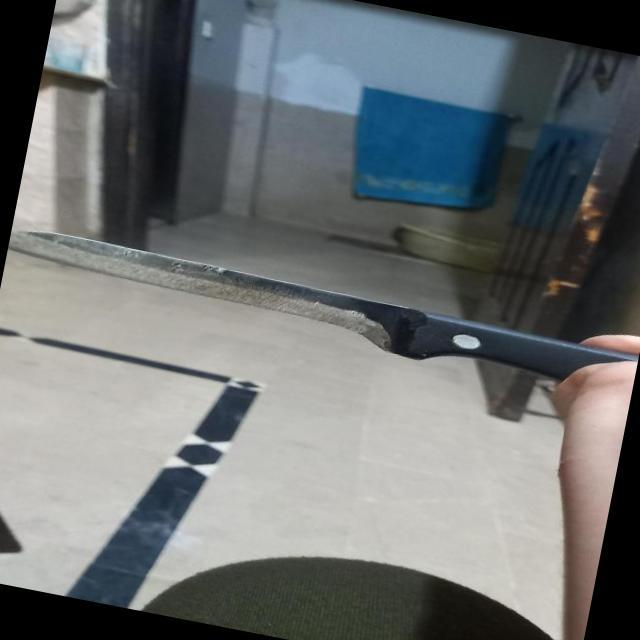Knife: (1, 216, 640, 410)
